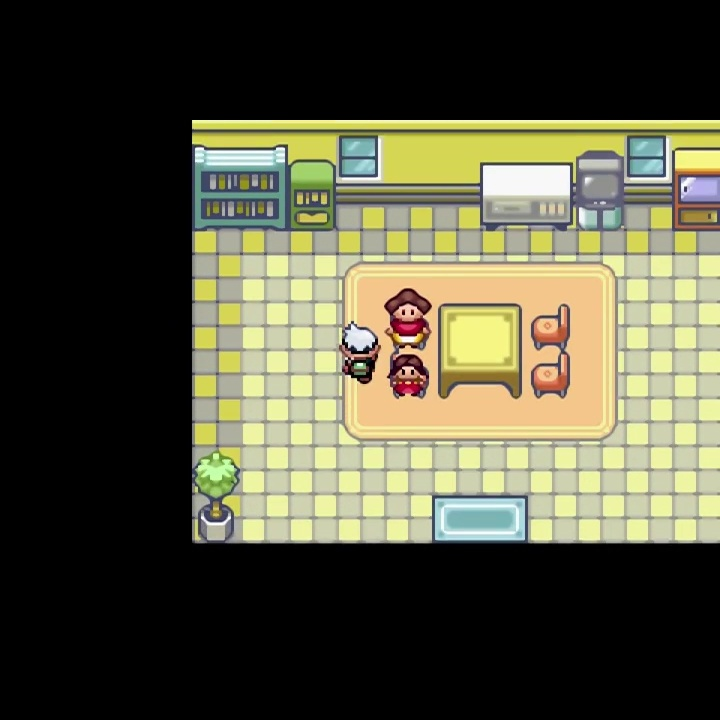exit: (430, 493, 530, 600)
npc: (382, 286, 435, 351), (336, 321, 382, 388), (388, 353, 431, 401)
